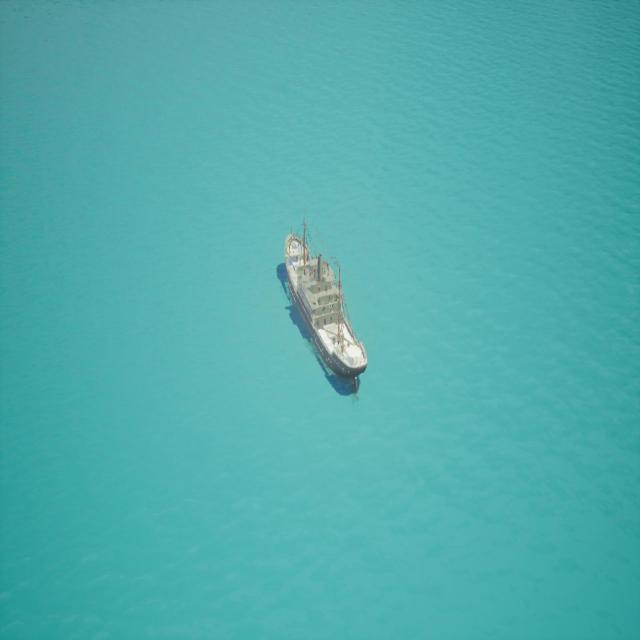fishing ship: (280, 219, 367, 395)
